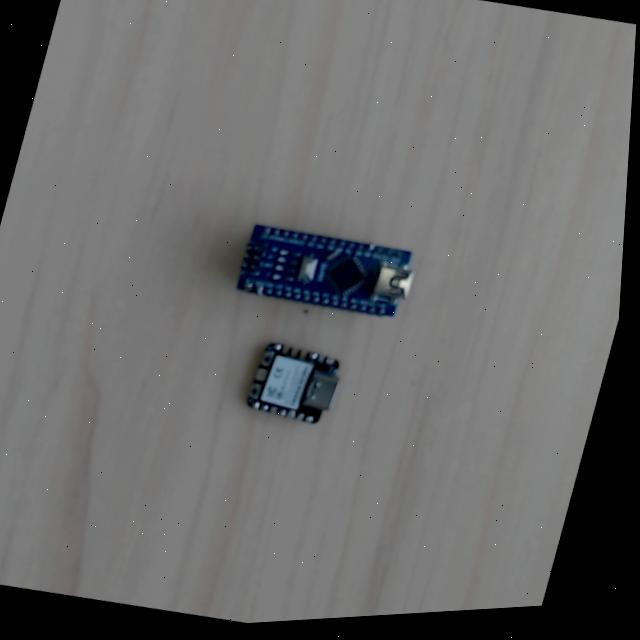Arduino-Nano: (237, 222, 415, 319)
ESP32C3-Xiao: (243, 334, 344, 429)
